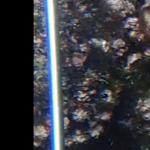dead: (58, 4, 148, 146)
